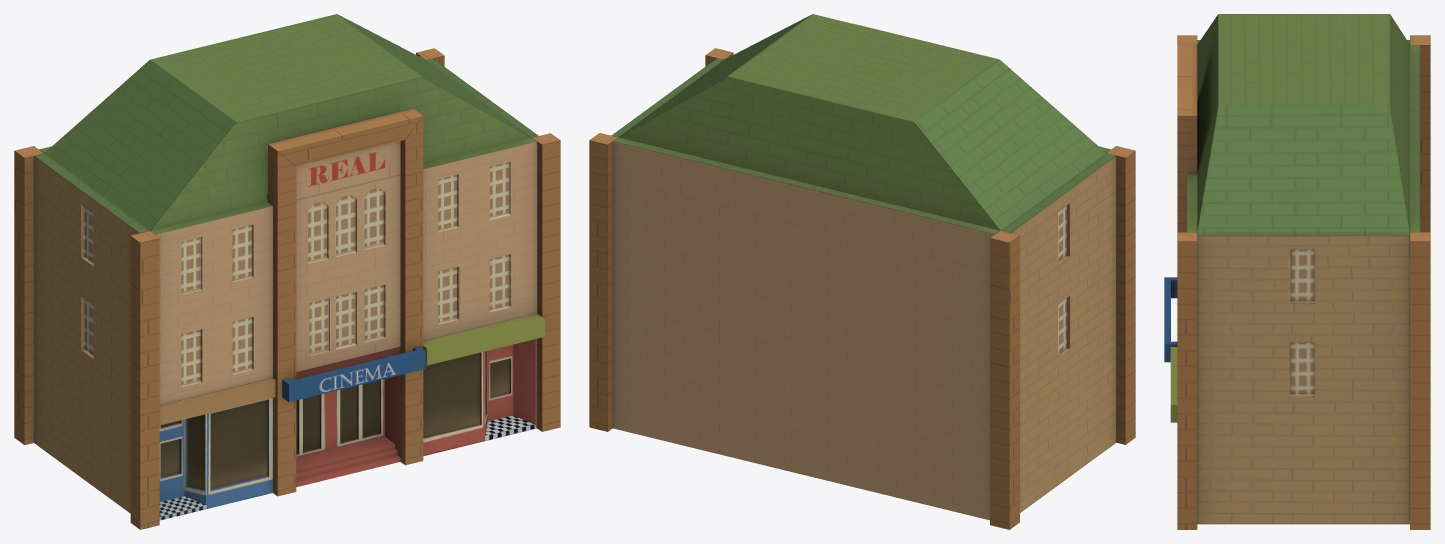
The model's file is cinema.glb.
3 views of the same model, side by side, from view 1: azimuth 30°, elevation 25°; view 2: azimuth 150°, elevation 25°; view 3: azimuth 270°, elevation 25° (orthographic).
Visible parts, largest first — view 1: node-0; view 2: node-0; view 3: node-0.
Boxes of the visible parts, x1,y1,x2,y2 form: node-0: (14, 14, 560, 529); node-0: (589, 14, 1135, 529); node-0: (1164, 14, 1430, 529).
Size of the model in its own units: 22.94 by 19.03 by 12.53.
Materials: 1 (1 with a texture image).
